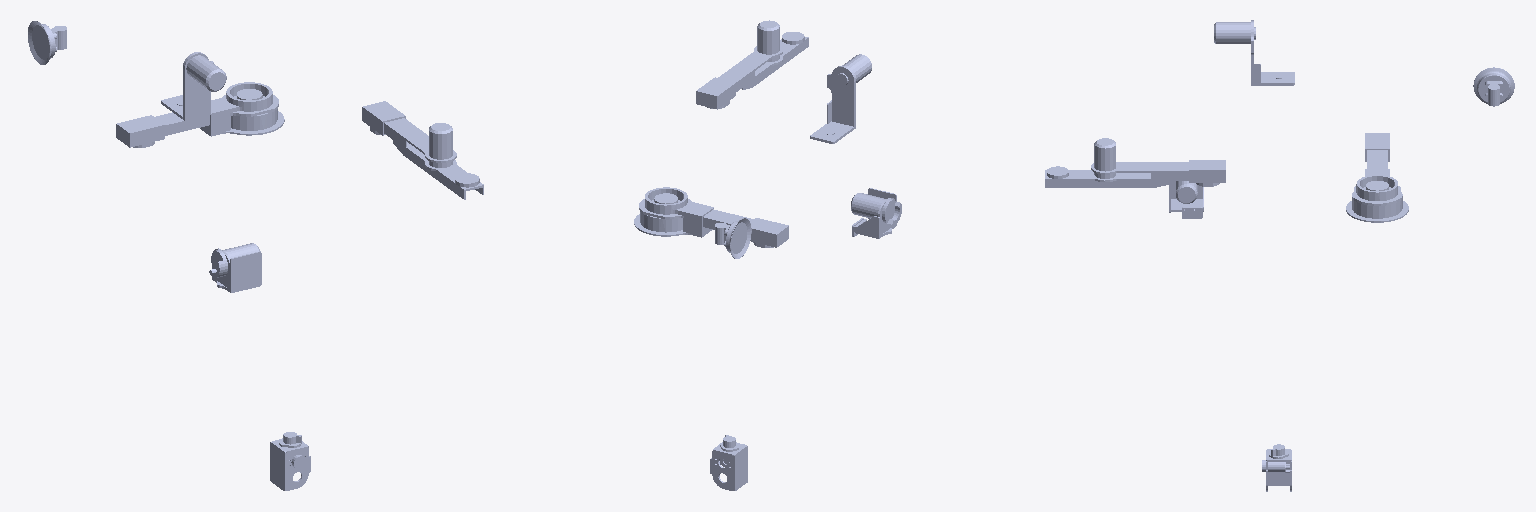
The robot description file, URDF, robot "scara_description":
<?xml version="1.0" encoding="utf-8"?>
<!-- This URDF was automatically created by SolidWorks to URDF Exporter! Originally created by [author] ([email redacted]) 
     Commit Version: 1.6.0-4-g7f85cfe  Build Version: 1.6.7995.38578
     For more information, please see http://wiki.ros.org/sw_urdf_exporter -->
<robot
  name="scara_description">
  <link
    name="base_link">
    <inertial>
      <origin
        xyz="0.0057621332343482 0.00285775270200555 0.193189380051916"
        rpy="0 0 0" />
      <mass
        value="0.57217968365953" />
      <inertia
        ixx="0.0124278422911613"
        ixy="4.96126683289887E-05"
        ixz="-0.000724082970449908"
        iyy="0.0130268328944623"
        iyz="0.000255561135289622"
        izz="0.000728269847627912" />
    </inertial>
    <visual>
      <origin
        xyz="0 0 0"
        rpy="0 0 0" />
      <geometry>
        <mesh
          filename="package://scara_description/meshes/base_link.STL" />
      </geometry>
      <material
        name="">
        <color
          rgba="0.792156862745098 0.819607843137255 0.933333333333333 1" />
      </material>
    </visual>
    <collision>
      <origin
        xyz="0 0 0"
        rpy="0 0 0" />
      <geometry>
        <mesh
          filename="package://scara_description/meshes/base_link.STL" />
      </geometry>
    </collision>
  </link>
  <link
    name="link1">
    <inertial>
      <origin
        xyz="0.0138321265029742 0.0695548003003947 0.124171706108288"
        rpy="0 0 0" />
      <mass
        value="0.27252514896887" />
      <inertia
        ixx="0.000571622269742261"
        ixy="1.08172931699114E-06"
        ixz="-1.42679992540951E-06"
        iyy="0.000398558077561348"
        iyz="-0.000118201456526435"
        izz="0.000667634937011231" />
    </inertial>
    <visual>
      <origin
        xyz="0 0 0"
        rpy="0 0 0" />
      <geometry>
        <mesh
          filename="package://scara_description/meshes/link1.STL" />
      </geometry>
      <material
        name="">
        <color
          rgba="0.792156862745098 0.819607843137255 0.933333333333333 1" />
      </material>
    </visual>
    <collision>
      <origin
        xyz="0 0 0"
        rpy="0 0 0" />
      <geometry>
        <mesh
          filename="package://scara_description/meshes/link1.STL" />
      </geometry>
    </collision>
  </link>
  <joint
    name="joint1"
    type="prismatic">
    <origin
      xyz="0 0 0"
      rpy="0 0 0" />
    <parent
      link="base_link" />
    <child
      link="link1" />
    <axis
      xyz="0 0 -1" />
    <limit
      lower="-0.25245"
      upper="0"
      effort="200"
      velocity="3" />
  </joint>
  <link
    name="link2">
    <inertial>
      <origin
        xyz="0.151219366961841 2.77555756156289E-17 0.0335829435916624"
        rpy="0 0 0" />
      <mass
        value="0.580917463575827" />
      <inertia
        ixx="0.000327730819903859"
        ixy="-9.67593407106374E-20"
        ixz="0.000146927246084188"
        iyy="0.00436977800756494"
        iyz="2.49232979655035E-19"
        izz="0.00450856517326053" />
    </inertial>
    <visual>
      <origin
        xyz="0 0 0"
        rpy="0 0 0" />
      <geometry>
        <mesh
          filename="package://scara_description/meshes/link2.STL" />
      </geometry>
      <material
        name="">
        <color
          rgba="0.792156862745098 0.819607843137255 0.933333333333333 1" />
      </material>
    </visual>
    <collision>
      <origin
        xyz="0 0 0"
        rpy="0 0 0" />
      <geometry>
        <mesh
          filename="package://scara_description/meshes/link2.STL" />
      </geometry>
    </collision>
  </link>
  <joint
    name="joint2"
    type="revolute">
    <origin
      xyz="0.014 0.0935 0.1372"
      rpy="0 0 0" />
    <parent
      link="link1" />
    <child
      link="link2" />
    <axis
      xyz="0 0 1" />
    <limit
      lower="-0.7854"
      upper="1.7977"
      effort="200"
      velocity="3" />
  </joint>
  <link
    name="link3">
    <inertial>
      <origin
        xyz="-1.38777878078145E-17 0.120570098997035 0.0414479064127798"
        rpy="0 0 0" />
      <mass
        value="0.300947531370299" />
      <inertia
        ixx="0.00309266769969678"
        ixy="-1.12554934406237E-19"
        ixz="-1.51741714335356E-20"
        iyy="0.00016611302475049"
        iyz="-0.000174741077577407"
        izz="0.00302343360822394" />
    </inertial>
    <visual>
      <origin
        xyz="0 0 0"
        rpy="0 0 0" />
      <geometry>
        <mesh
          filename="package://scara_description/meshes/link3.STL" />
      </geometry>
      <material
        name="">
        <color
          rgba="0.792156862745098 0.819607843137255 0.933333333333333 1" />
      </material>
    </visual>
    <collision>
      <origin
        xyz="0 0 0"
        rpy="0 0 0" />
      <geometry>
        <mesh
          filename="package://scara_description/meshes/link3.STL" />
      </geometry>
    </collision>
  </link>
  <joint
    name="joint3"
    type="revolute">
    <origin
      xyz="0.215 0 0.0453999999999997"
      rpy="0 0 -1.5707963267949" />
    <parent
      link="link2" />
    <child
      link="link3" />
    <axis
      xyz="0 0 1" />
    <limit
      lower="-1.3439"
      upper="4.0143"
      effort="200"
      velocity="3" />
  </joint>
  <link
    name="link4">
    <inertial>
      <origin
        xyz="0.000911907177548854 -0.0674185686260867 0.0693671054879262"
        rpy="0 0 0" />
      <mass
        value="0.161315962203164" />
      <inertia
        ixx="0.00040056998946175"
        ixy="-4.10216369660939E-06"
        ixz="4.75822222243618E-06"
        iyy="0.000252675454451169"
        iyz="0.000142989851619656"
        izz="0.000199381329691318" />
    </inertial>
    <visual>
      <origin
        xyz="0 0 0"
        rpy="0 0 0" />
      <geometry>
        <mesh
          filename="package://scara_description/meshes/link4.STL" />
      </geometry>
      <material
        name="">
        <color
          rgba="0.792156862745098 0.819607843137255 0.933333333333333 1" />
      </material>
    </visual>
    <collision>
      <origin
        xyz="0 0 0"
        rpy="0 0 0" />
      <geometry>
        <mesh
          filename="package://scara_description/meshes/link4.STL" />
      </geometry>
    </collision>
  </link>
  <joint
    name="joint4"
    type="revolute">
    <origin
      xyz="0 0.285 0.0416"
      rpy="0 0 -1.5707963267949" />
    <parent
      link="link3" />
    <child
      link="link4" />
    <axis
      xyz="0 0 1" />
    <limit
      lower="-2.6698"
      upper="3.0025"
      effort="200"
      velocity="3" />
  </joint>
  <link
    name="link5">
    <inertial>
      <origin
        xyz="0.00605536000839357 -0.00127524114842326 0.0394789472938122"
        rpy="0 0 0" />
      <mass
        value="0.158985625581691" />
      <inertia
        ixx="9.24577513113223E-05"
        ixy="-1.5445864125732E-06"
        ixz="-7.96961415230022E-07"
        iyy="0.000134712959630509"
        iyz="3.89855502623123E-06"
        izz="0.000119738799533511" />
    </inertial>
    <visual>
      <origin
        xyz="0 0 0"
        rpy="0 0 0" />
      <geometry>
        <mesh
          filename="package://scara_description/meshes/link5.STL" />
      </geometry>
      <material
        name="">
        <color
          rgba="0.792156862745098 0.819607843137255 0.933333333333333 1" />
      </material>
    </visual>
    <collision>
      <origin
        xyz="0 0 0"
        rpy="0 0 0" />
      <geometry>
        <mesh
          filename="package://scara_description/meshes/link5.STL" />
      </geometry>
    </collision>
  </link>
  <joint
    name="joint5"
    type="revolute">
    <origin
      xyz="0 -0.047 0.092"
      rpy="-1.5707963267949 0 0" />
    <parent
      link="link4" />
    <child
      link="link5" />
    <axis
      xyz="0 0 -1" />
    <limit
      lower="-0.69813"
      upper="0"
      effort="200"
      velocity="3" />
  </joint>
  <link
    name="link6">
    <inertial>
      <origin
        xyz="-0.00355403590625505 -0.00251181168132289 -0.0510095609592032"
        rpy="0 0 0" />
      <mass
        value="0.0717968221721647" />
      <inertia
        ixx="5.56065583559543E-05"
        ixy="7.72628005861415E-07"
        ixz="-4.6344552032925E-06"
        iyy="4.79357175536453E-05"
        iyz="2.19980245329151E-07"
        izz="3.33722393714322E-05" />
    </inertial>
    <visual>
      <origin
        xyz="0 0 0"
        rpy="0 0 0" />
      <geometry>
        <mesh
          filename="package://scara_description/meshes/link6.STL" />
      </geometry>
      <material
        name="">
        <color
          rgba="0.792156862745098 0.819607843137255 0.933333333333333 1" />
      </material>
    </visual>
    <collision>
      <origin
        xyz="0 0 0"
        rpy="0 0 0" />
      <geometry>
        <mesh
          filename="package://scara_description/meshes/link6.STL" />
      </geometry>
    </collision>
  </link>
  <joint
    name="joint6"
    type="revolute">
    <origin
      xyz="-0.0178499999999999 0 0.048"
      rpy="1.5707963267949 0 1.5707963267949" />
    <parent
      link="link5" />
    <child
      link="link6" />
    <axis
      xyz="0 0 1" />
    <limit
      lower="-3.1416"
      upper="0"
      effort="200"
      velocity="3" />
  </joint>
  <link
    name="link7">
    <inertial>
      <origin
        xyz="-0.0112224969341433 2.77555756156289E-17 -1.38777878078145E-17"
        rpy="0 0 0" />
      <mass
        value="0.0281299504553923" />
      <inertia
        ixx="4.36826634068471E-06"
        ixy="5.20286234456131E-21"
        ixz="1.71012922866411E-22"
        iyy="6.50865119427316E-06"
        iyz="1.1254987768263E-20"
        izz="4.81664015522416E-06" />
    </inertial>
    <visual>
      <origin
        xyz="0 0 0"
        rpy="0 0 0" />
      <geometry>
        <mesh
          filename="package://scara_description/meshes/link7.STL" />
      </geometry>
      <material
        name="">
        <color
          rgba="0.792156862745098 0.819607843137255 0.933333333333333 1" />
      </material>
    </visual>
    <collision>
      <origin
        xyz="0 0 0"
        rpy="0 0 0" />
      <geometry>
        <mesh
          filename="package://scara_description/meshes/link7.STL" />
      </geometry>
    </collision>
  </link>
  <joint
    name="joint7"
    type="revolute">
    <origin
      xyz="0 0 -0.078405"
      rpy="1.5708 -1.5708 0" />
    <parent
      link="link6" />
    <child
      link="link7" />
    <axis
      xyz="0 0 1" />
    <limit
      lower="-0.17453"
      upper="1.5708"
      effort="200"
      velocity="3" />
  </joint>
  <link
    name="link8">
    <inertial>
      <origin
        xyz="-0.0355732119020791 2.77555756156289E-17 9.71445146547012E-17"
        rpy="0 0 0" />
      <mass
        value="0.0374587379875856" />
      <inertia
        ixx="1.91779993839597E-05"
        ixy="-2.01711871875207E-20"
        ixz="-9.55306611337375E-21"
        iyy="1.01343765382842E-05"
        iyz="-9.83806034622694E-22"
        izz="1.01343765382842E-05" />
    </inertial>
    <visual>
      <origin
        xyz="0 0 0"
        rpy="0 0 0" />
      <geometry>
        <mesh
          filename="package://scara_description/meshes/link8.STL" />
      </geometry>
      <material
        name="">
        <color
          rgba="0.792156862745098 0.819607843137255 0.933333333333333 1" />
      </material>
    </visual>
    <collision>
      <origin
        xyz="0 0 0"
        rpy="0 0 0" />
      <geometry>
        <mesh
          filename="package://scara_description/meshes/link8.STL" />
      </geometry>
    </collision>
  </link>
  <joint
    name="joint8"
    type="fixed">
    <origin
      xyz="0 0 0"
      rpy="0 0 0" />
    <parent
      link="link7" />
    <child
      link="link8" />
    <axis
      xyz="0 0 0" />
  </joint>
</robot>

--- Render facts (derived) ---
3 views of the same robot in one strip: view 1: azimuth 30°, elevation 25°; view 2: azimuth 150°, elevation 25°; view 3: azimuth 270°, elevation 25° (orthographic).
Model scara_description with 9 links and 8 joints (6 revolute, 1 prismatic, 1 fixed), rooted at base_link, posed all joints at 0.
Visible links, largest first — view 1: link2, link3, link4, link5, link6, link7; view 2: link2, link3, link4, link5, link6, link7; view 3: link3, link2, link4, link7, link5, link6.
Boxes of the visible links, <box> form: link2: <box>116,82,284,147</box>; link3: <box>362,101,483,199</box>; link4: <box>161,52,226,120</box>; link5: <box>209,243,261,292</box>; link6: <box>270,432,310,490</box>; link7: <box>28,21,66,64</box>; link2: <box>634,187,788,247</box>; link3: <box>696,20,808,109</box>; link4: <box>810,54,871,143</box>; link5: <box>851,188,901,238</box>; link6: <box>710,435,747,490</box>; link7: <box>715,218,751,258</box>; link3: <box>1045,138,1225,187</box>; link2: <box>1346,133,1408,222</box>; link4: <box>1214,20,1294,85</box>; link7: <box>1473,67,1514,106</box>; link5: <box>1169,181,1203,218</box>; link6: <box>1262,444,1291,491</box>.
Size in the robot's own frame: 0.3951 by 0.8925 by 0.8835 metres.
6 mesh visuals loaded from 9 distinct referenced files (6 binary STL); not drawn: 3 (reference not matched to a file when rendering).